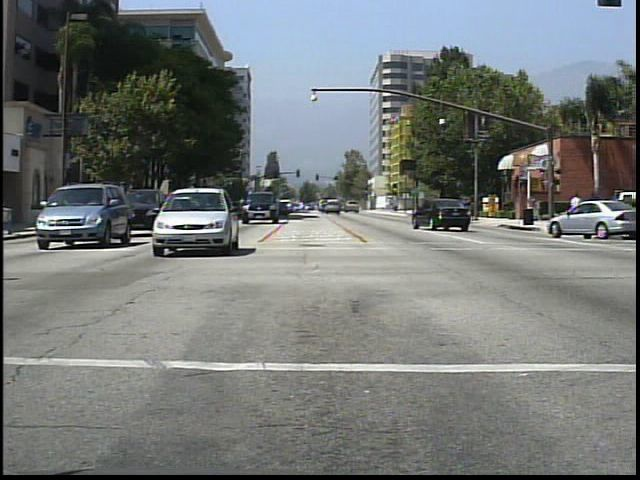person: (567, 191, 588, 235), (527, 192, 542, 227)
